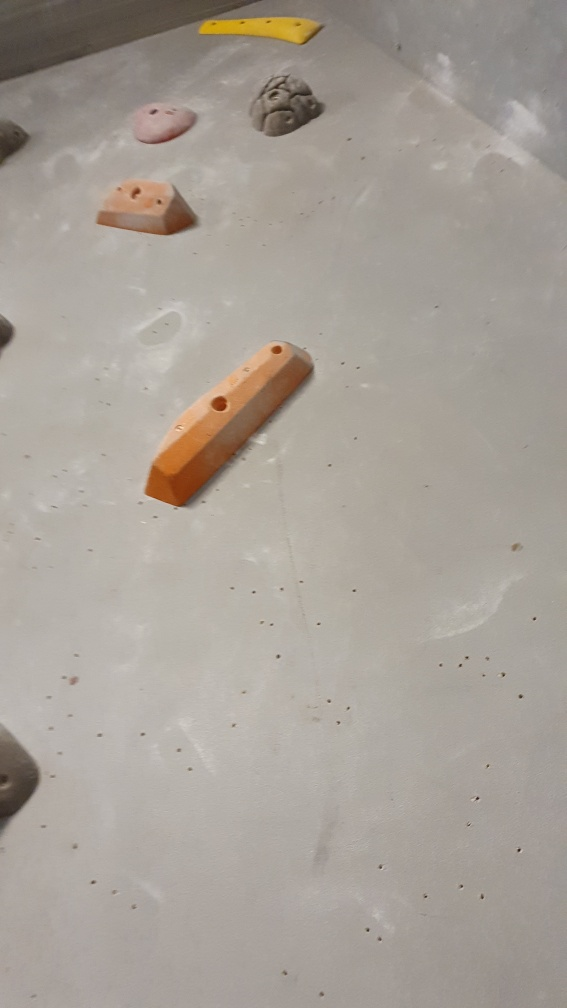Crimp: (195, 12, 324, 44)
Jug: (243, 75, 324, 139)
Pinch: (143, 335, 314, 510), (92, 173, 201, 237)
